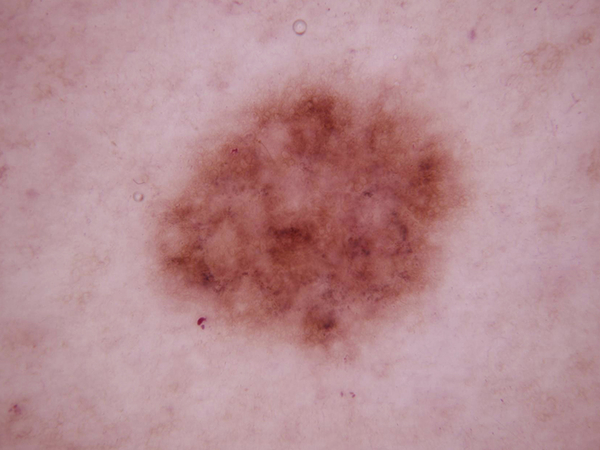Detected Lesion: (150, 82, 471, 360)
